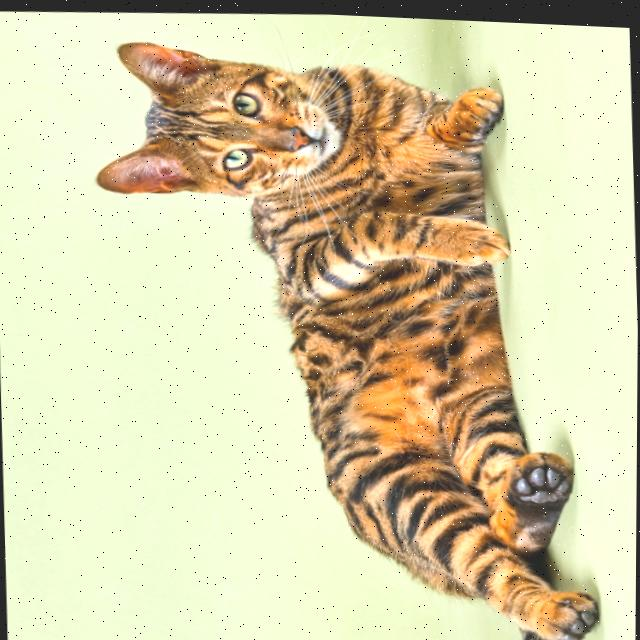Toyger: (82, 20, 606, 640)
